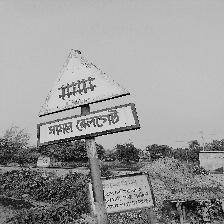Rail-crossing: (36, 50, 138, 145)
